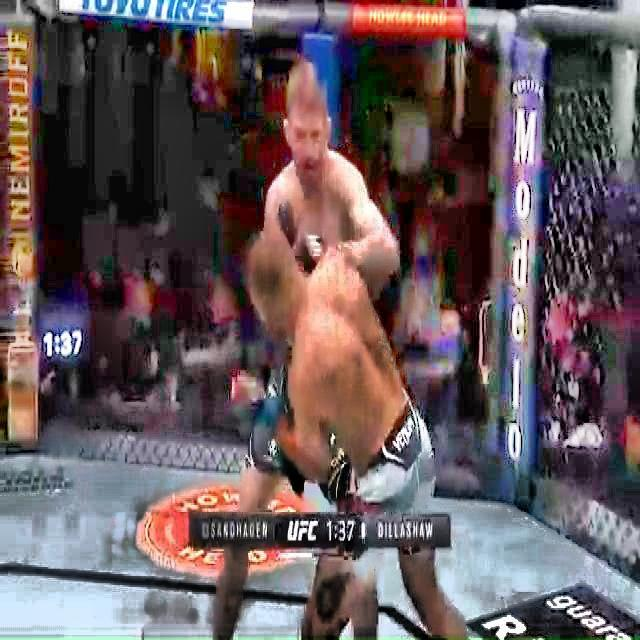low-guard: (284, 62, 333, 236)
